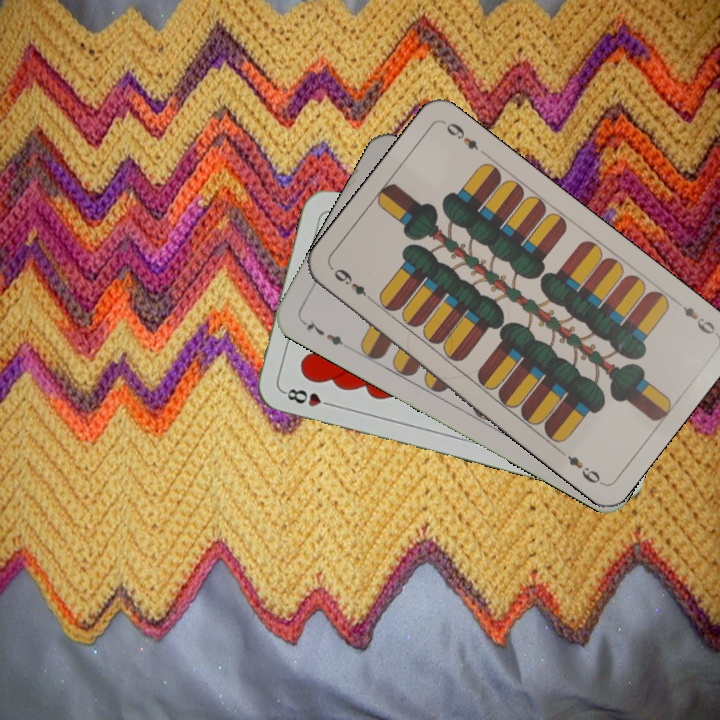E7: (297, 315, 351, 352)
E9: (329, 264, 377, 306), (679, 302, 718, 338)
H8: (279, 384, 337, 409)
